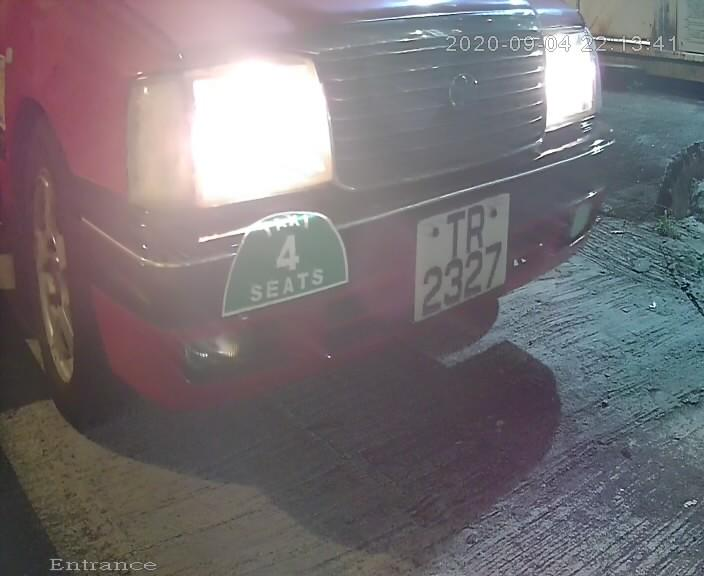License Plate: (406, 181, 510, 327)
